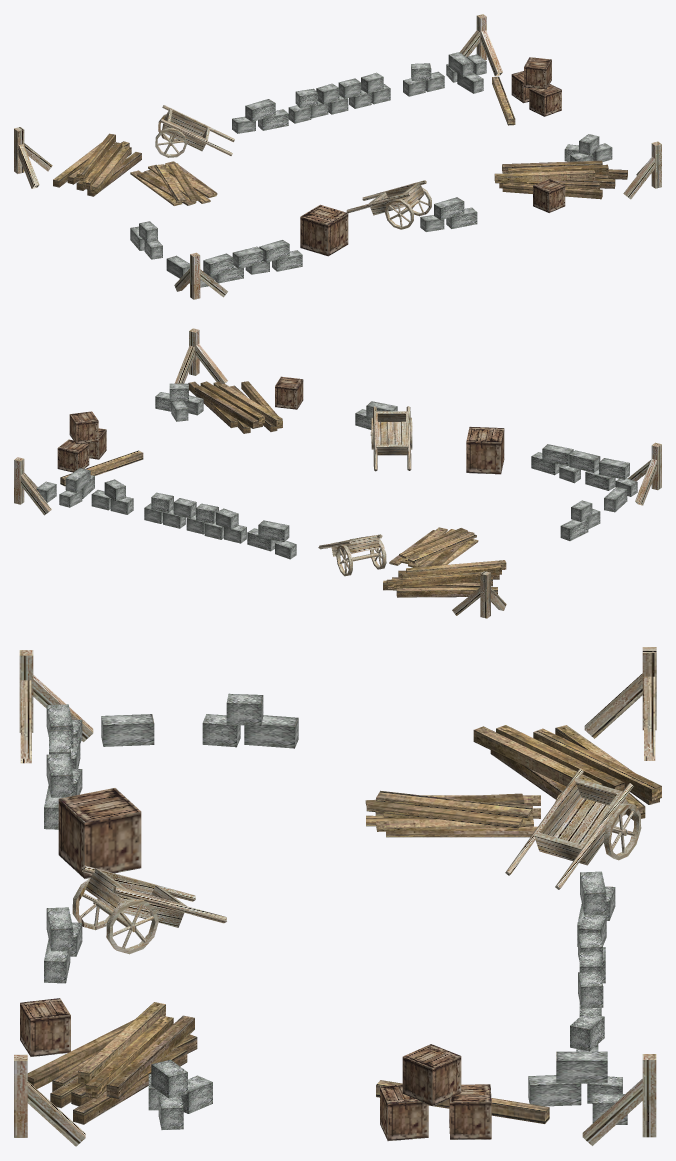
The model's file is found_6x4_b.dae.
The picture shows the model from 3 angles, top to bottom: view 1: azimuth 30°, elevation 25°; view 2: azimuth 150°, elevation 25°; view 3: azimuth 270°, elevation 25°; orthographic projection. The views are drawn at different scales.
Visible parts, largest first — view 1: foundation_6x4_b; view 2: foundation_6x4_b; view 3: foundation_6x4_b.
Part boxes in pixels (x1=…): foundation_6x4_b: x1=14, y1=14, x2=661, y2=299; foundation_6x4_b: x1=14, y1=328, x2=661, y2=618; foundation_6x4_b: x1=14, y1=647, x2=661, y2=1146.
Bounding box in the file's own units: 31 × 3 × 20.28.
